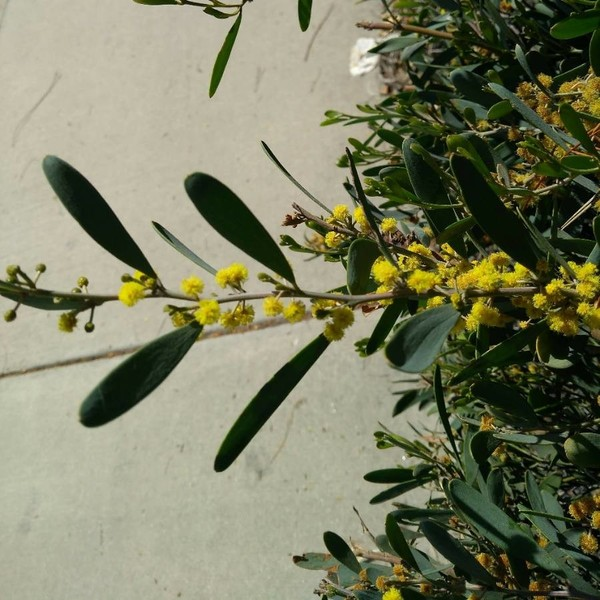obstacle: (46, 140, 548, 392)
